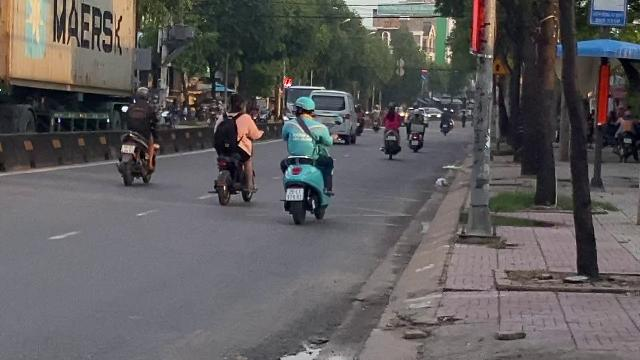helmet: (294, 96, 316, 116)
licenseplate: (286, 188, 302, 200)
motorcyclist: (276, 95, 336, 224), (208, 92, 264, 208)
nohelmet: (226, 93, 246, 113)
